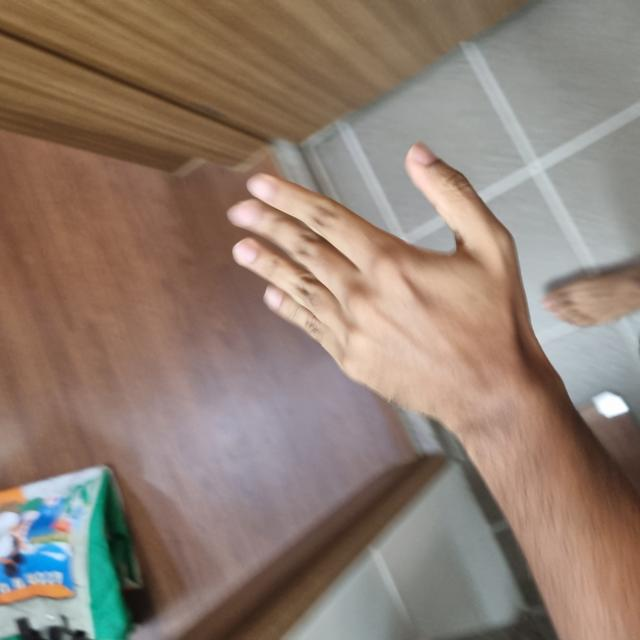Paper: (210, 233, 490, 639)
